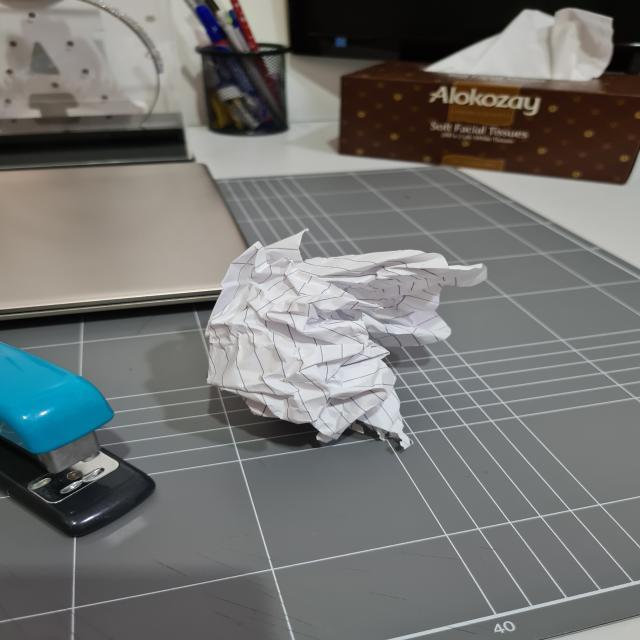Paper: (211, 222, 484, 451)
